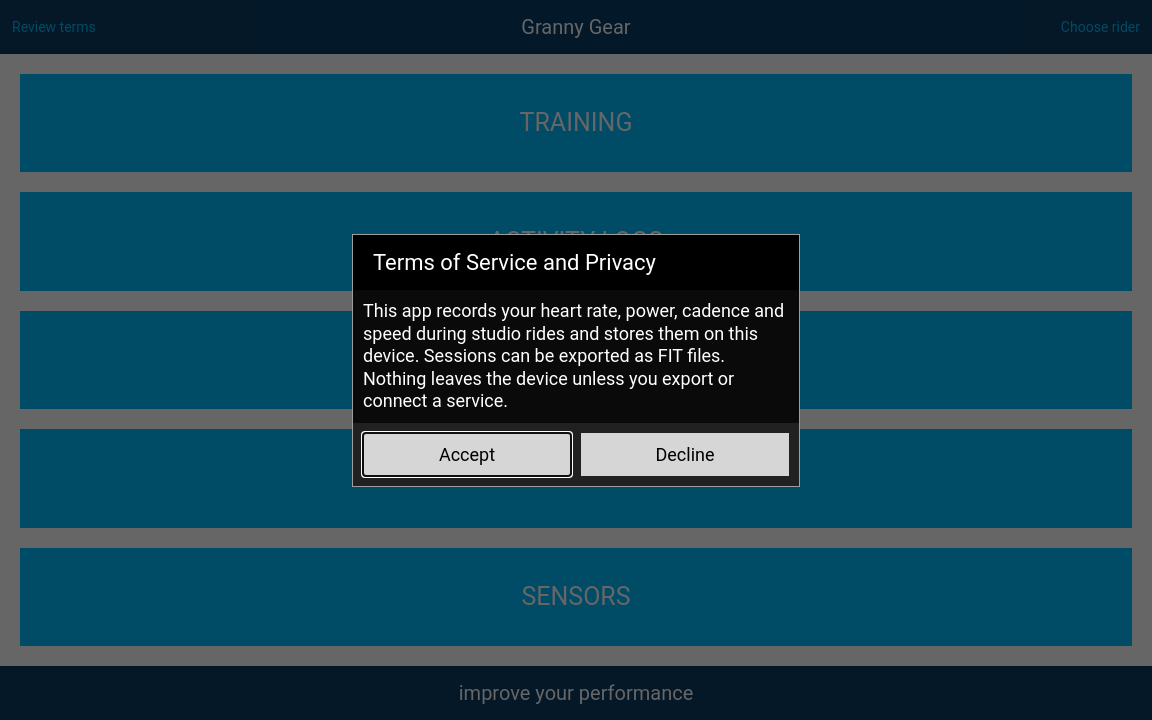
Test: Home › names the terms dialog, focuses Accept and inerts the page behind it until accepted
The width and height of the screenshot is (1152, 720).
Click the button "Accept": (467, 454) [363,432,571,476]
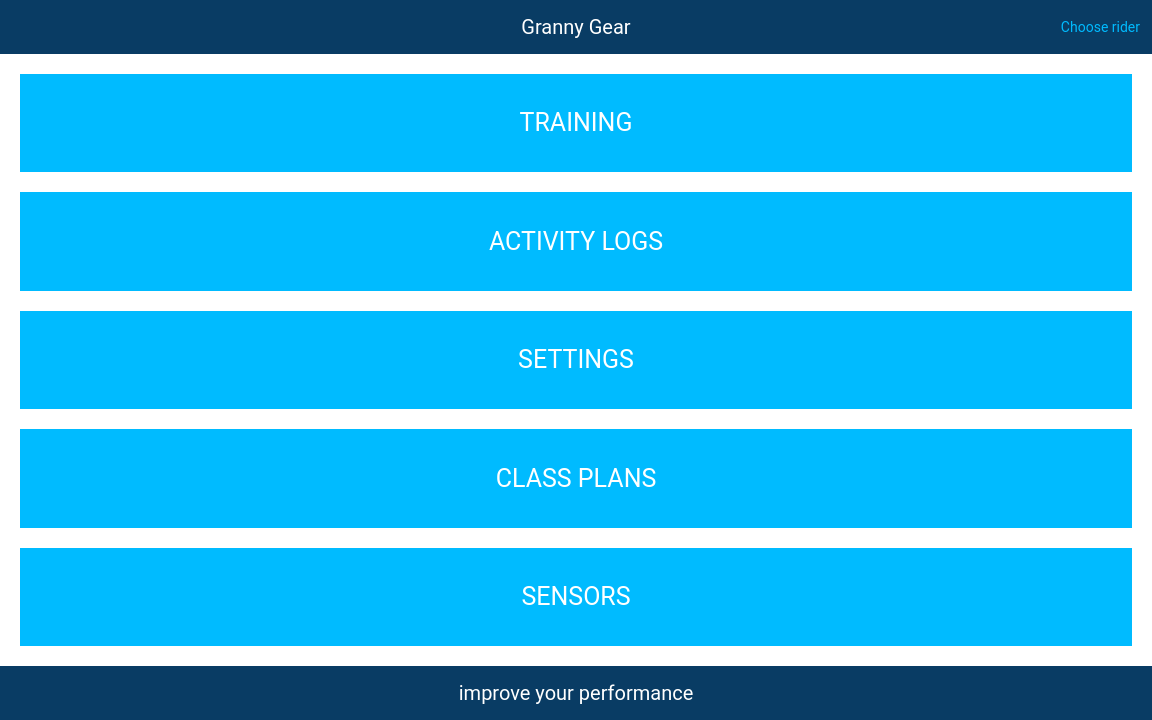
Result: the dialog is gone
